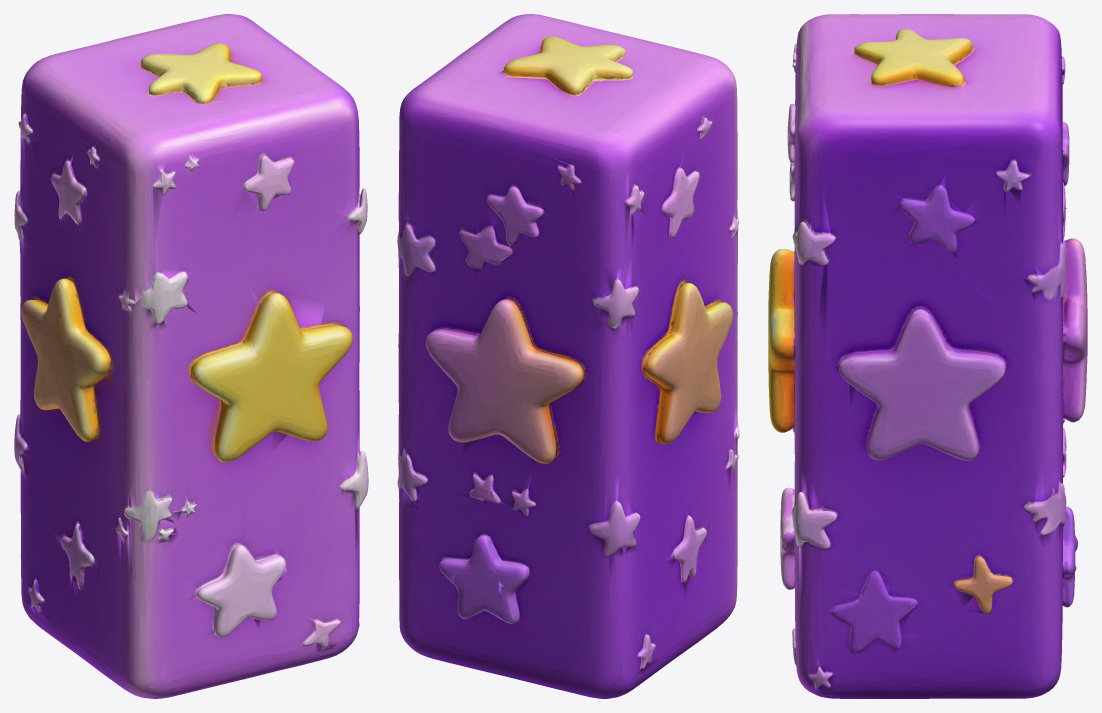
Rendered from mor_dikey_kup.glb.
3 renders of one model, left to right at view 1: azimuth 30°, elevation 25°; view 2: azimuth 150°, elevation 25°; view 3: azimuth 270°, elevation 25°, orthographic. The views are drawn at different scales.
Visible parts, largest first — view 1: tripo_node_d79025e6-ebd8-48dc-9ced-72a668f0be46; view 2: tripo_node_d79025e6-ebd8-48dc-9ced-72a668f0be46; view 3: tripo_node_d79025e6-ebd8-48dc-9ced-72a668f0be46.
Part boxes in pixels (left/top/right/bottom): tripo_node_d79025e6-ebd8-48dc-9ced-72a668f0be46: left=14, top=14, right=368, bottom=698; tripo_node_d79025e6-ebd8-48dc-9ced-72a668f0be46: left=397, top=14, right=739, bottom=698; tripo_node_d79025e6-ebd8-48dc-9ced-72a668f0be46: left=768, top=14, right=1087, bottom=698.
Bounding box in the file's own units: 0.4727 × 0.9803 × 0.4716.
1 material, 1 textured.
